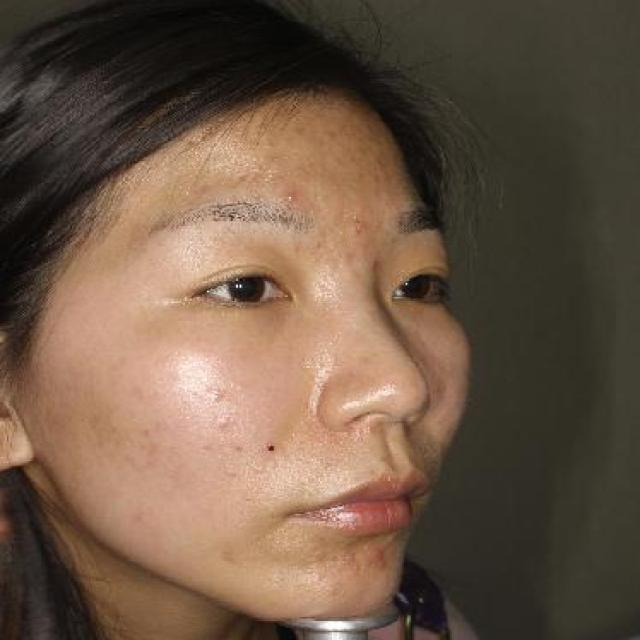blackheads: (262, 438, 282, 457)
papules: (372, 548, 394, 574), (212, 412, 238, 432), (349, 220, 373, 237), (281, 189, 303, 203), (340, 550, 352, 564)
